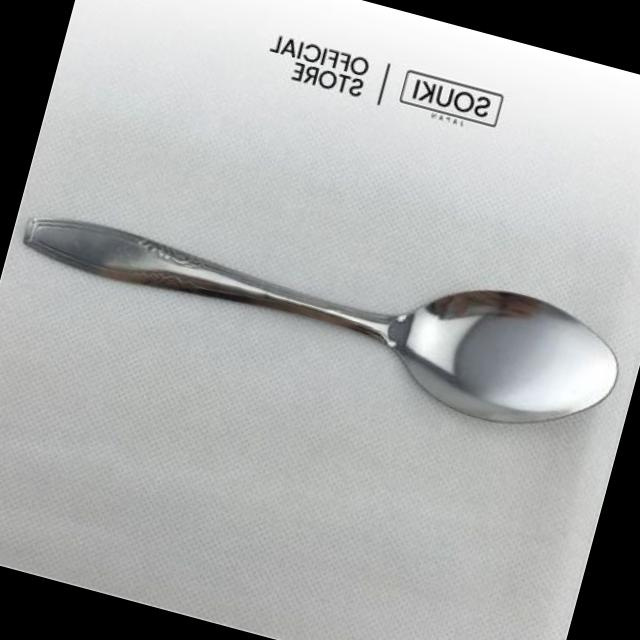spoon: (0, 158, 637, 463)
